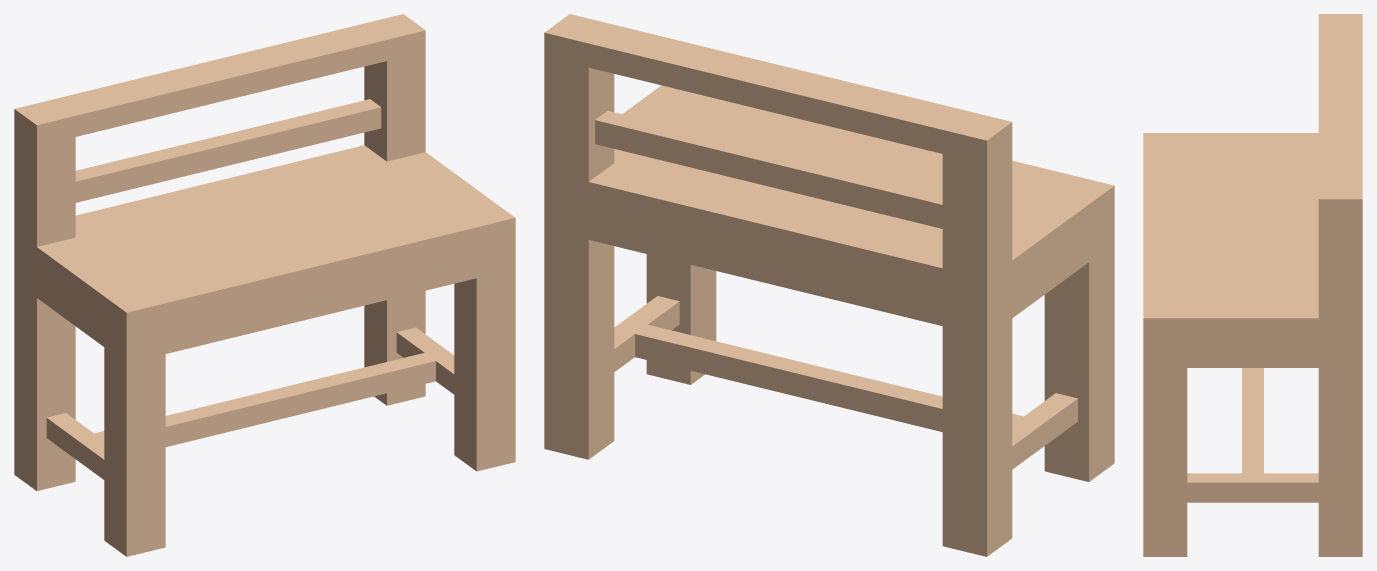
File: bench_low_back.glb
3 views of the same model, side by side, from view 1: azimuth 30°, elevation 25°; view 2: azimuth 150°, elevation 25°; view 3: azimuth 270°, elevation 25° (orthographic). The views are drawn at different scales.
Visible parts, largest first — view 1: bench(Clone); view 2: bench(Clone); view 3: bench(Clone).
Part boxes in pixels (left/top/right/bottom): bench(Clone): left=14, top=14, right=515, bottom=556; bench(Clone): left=544, top=14, right=1114, bottom=556; bench(Clone): left=1143, top=14, right=1362, bottom=556.
Size of the model in its own units: 0.4 by 0.3596 by 0.2.
